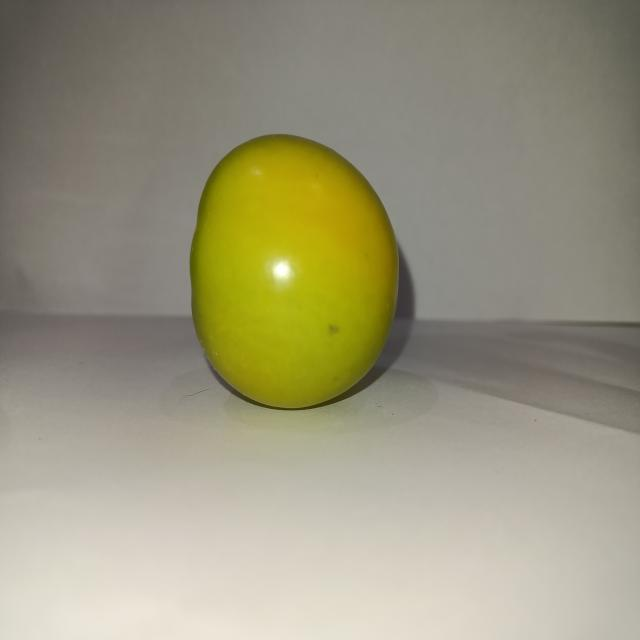Red: (188, 132, 400, 410)
